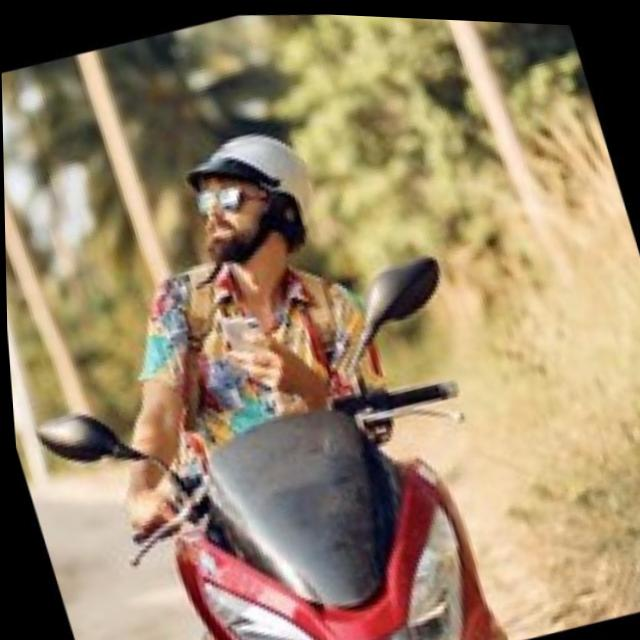USING_MOBILE: (193, 268, 331, 424)
